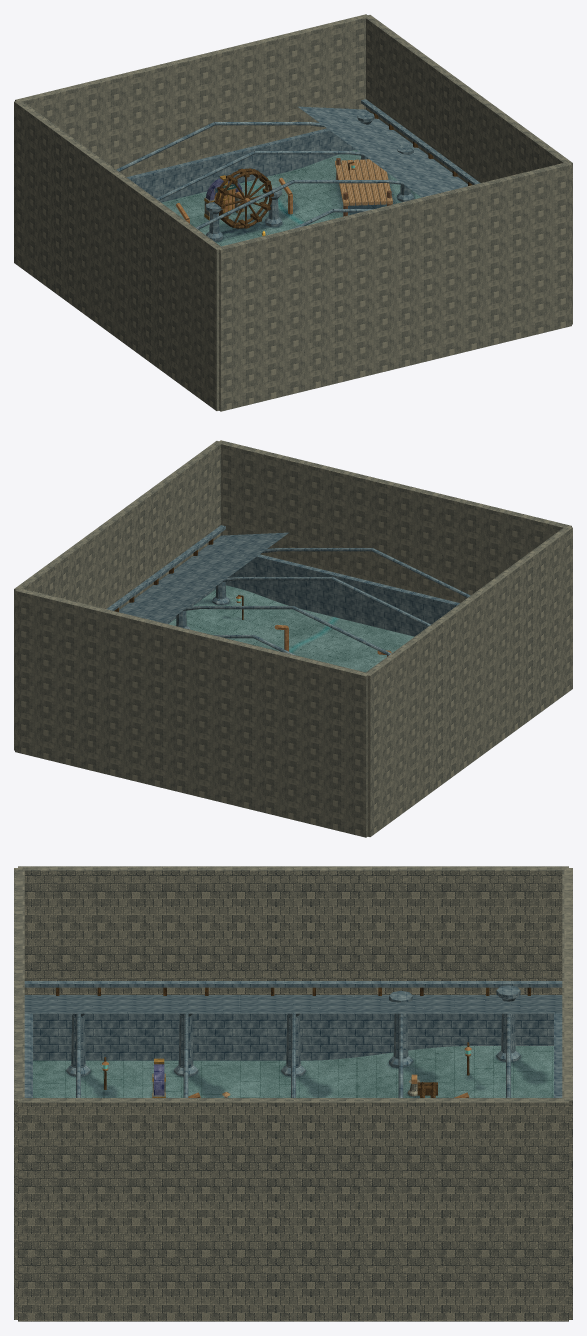
File: TwinIntake-00be3262febd.glb
3 views of the same model, one above another, from view 1: azimuth 30°, elevation 25°; view 2: azimuth 150°, elevation 25°; view 3: azimuth 270°, elevation 25° (orthographic). The views are drawn at different scales.
Parts seen in each view (by area): view 1: C_Solids, Rim, Terrain, Set; view 2: C_Solids, Rim, Terrain, Set; view 3: C_Solids, Rim, Terrain, Set.
Part boxes in pixels (box(x1,y1,x2,y2)): C_Solids: box(14, 14, 572, 411); Rim: box(116, 99, 480, 229); Terrain: box(161, 150, 421, 246); Set: box(176, 112, 413, 241); C_Solids: box(14, 440, 572, 837); Rim: box(106, 525, 470, 655); Terrain: box(168, 585, 414, 672); Set: box(175, 581, 391, 656); C_Solids: box(14, 866, 572, 1321); Rim: box(24, 981, 562, 1097); Terrain: box(33, 1046, 553, 1097); Set: box(66, 985, 520, 1097).
Bounding box in the file's own units: 41.6 × 18 × 41.6.
Materials: 14 (14 with a texture image).
